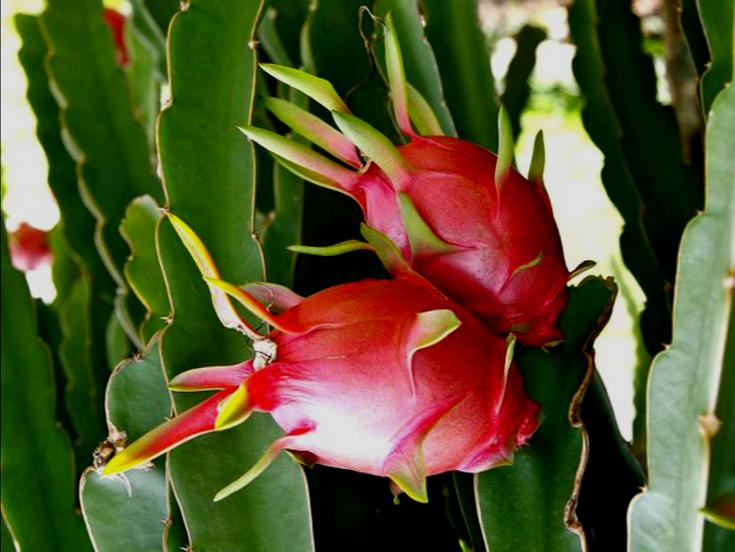thanh_long: (196, 288, 524, 482), (314, 110, 554, 290)
